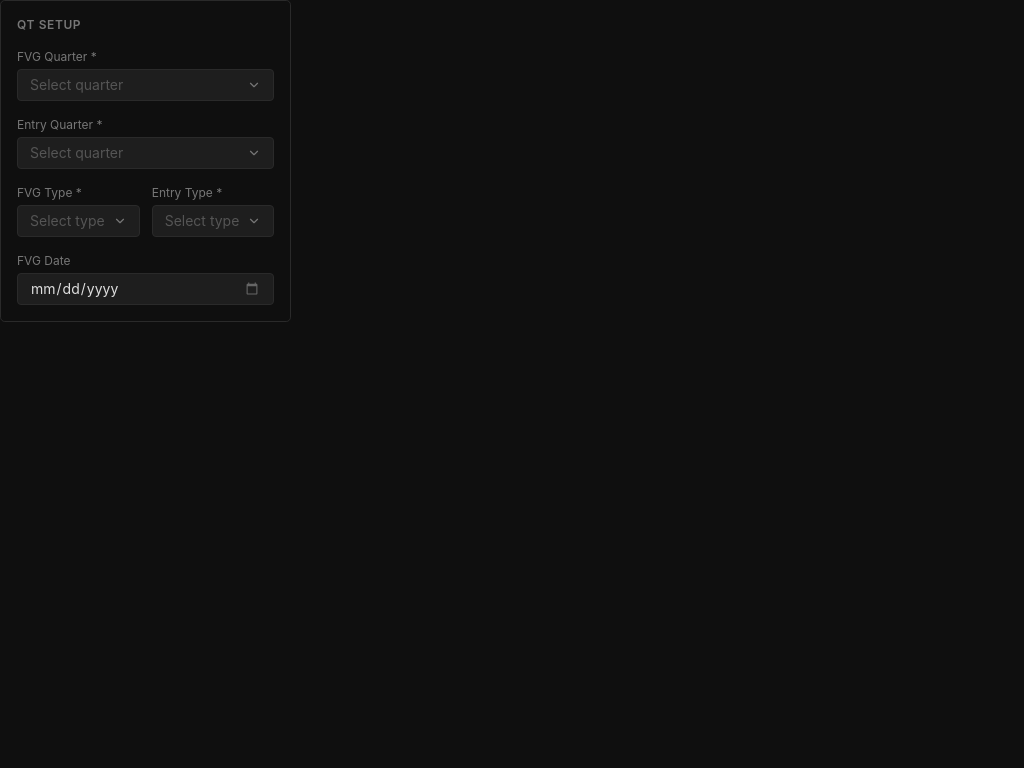
Test: QtTradeFields — quarter options › FVG Type dropdown contains Standard and Inverse options
Click the dropdown labelled "Select type" below "FVG Type *". click: [78, 221]
box: [17, 205, 140, 237]
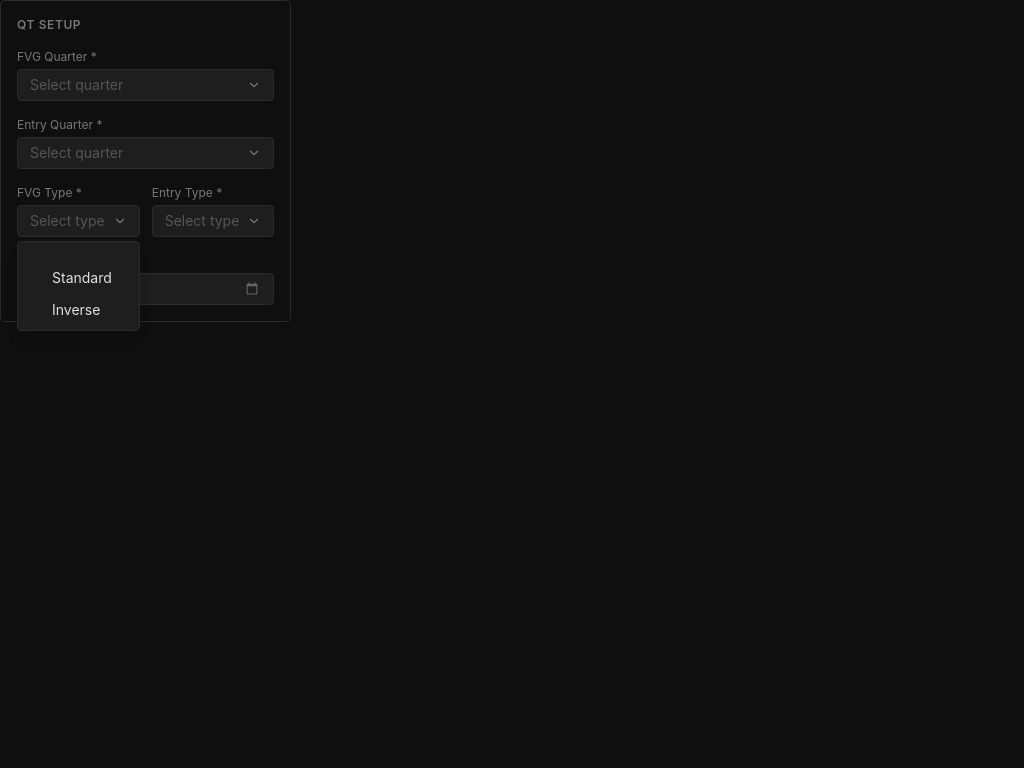
Check: the option "Standard" is shown, box [52, 269, 112, 286]
Check: the option "Inverse" is shown, box [52, 301, 100, 318]
